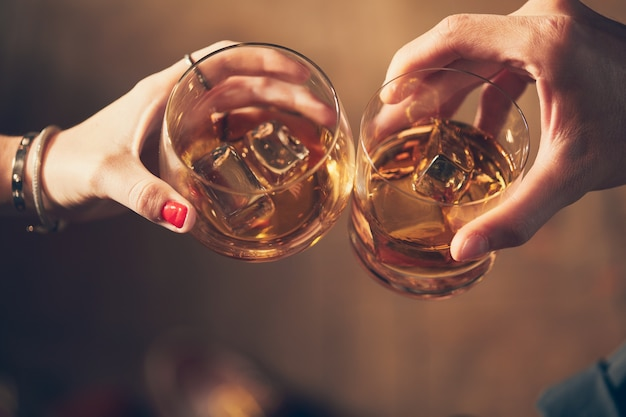alcohol: (158, 42, 358, 263), (349, 66, 533, 301)
